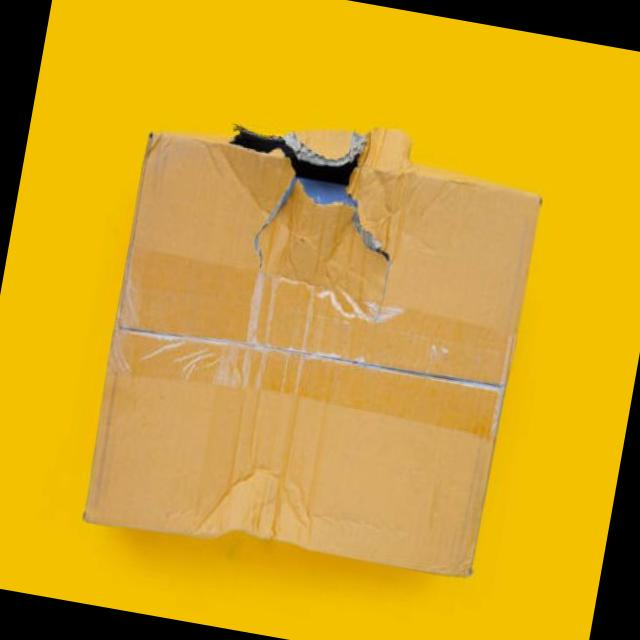box: (88, 71, 486, 604)
